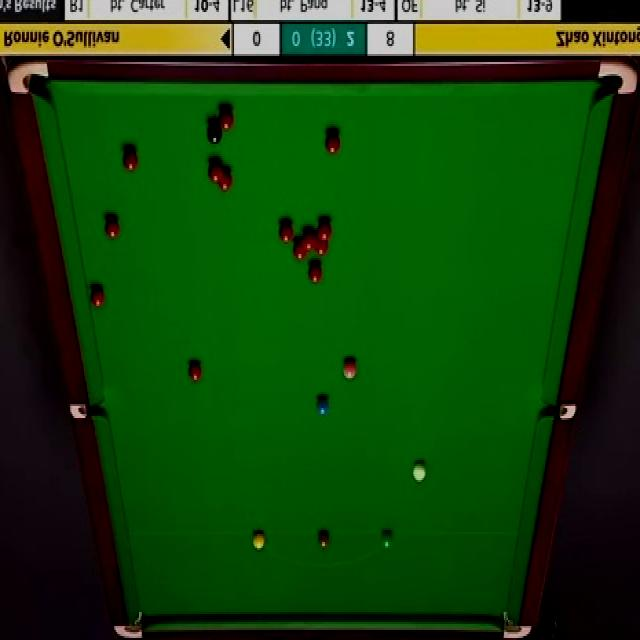black-ball: (207, 122, 224, 146)
blue-ball: (316, 393, 330, 418)
brown-ball: (317, 531, 330, 550)
green-ball: (381, 531, 394, 550)
pink-ball: (342, 356, 358, 378)
red-ball: (324, 128, 342, 159), (88, 282, 107, 309), (119, 148, 138, 174), (102, 216, 119, 242), (306, 262, 325, 284), (292, 238, 308, 264), (208, 160, 224, 184), (314, 232, 330, 255), (219, 169, 235, 191), (220, 105, 233, 131), (278, 222, 292, 245), (301, 230, 317, 250), (318, 221, 331, 242), (188, 362, 202, 380)
white-ball: (413, 461, 427, 484)
yellow-ball: (252, 531, 265, 550)
